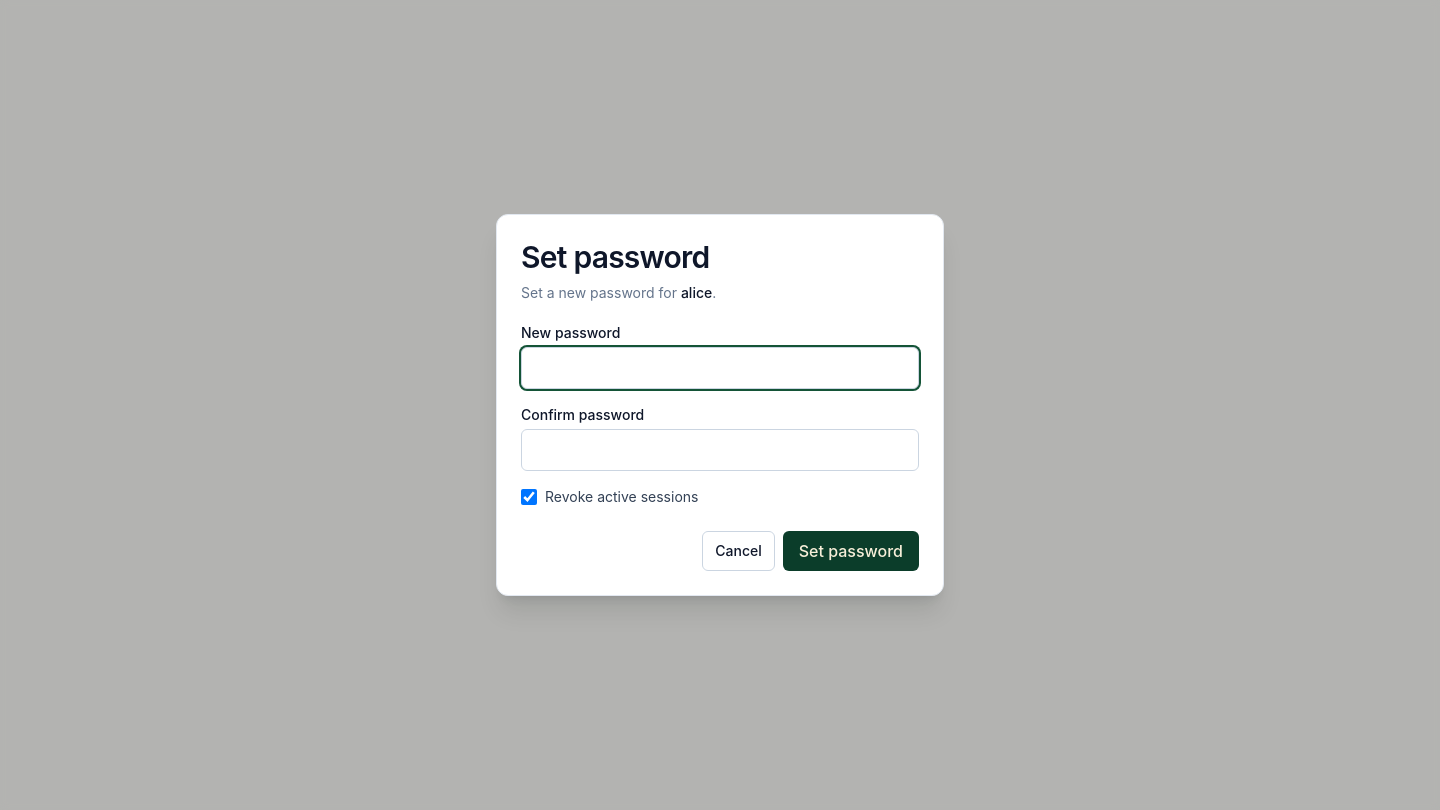
Test: validates confirmation matches
Type "secret" into the password field labelled "New password" at (720, 368), box [521, 347, 919, 389]
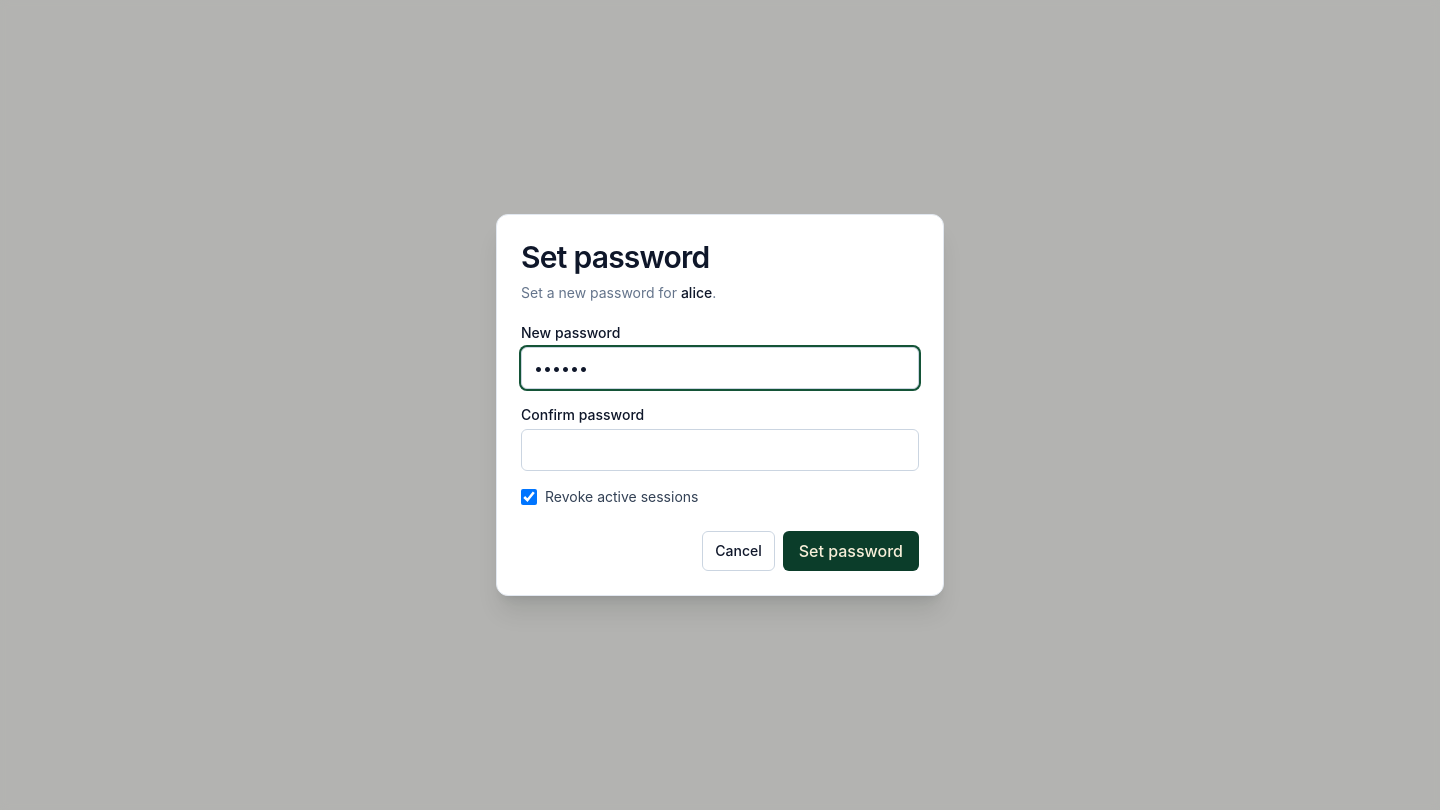
Type "different" into the password field labelled "Confirm password" at (720, 450), box [521, 429, 919, 471]
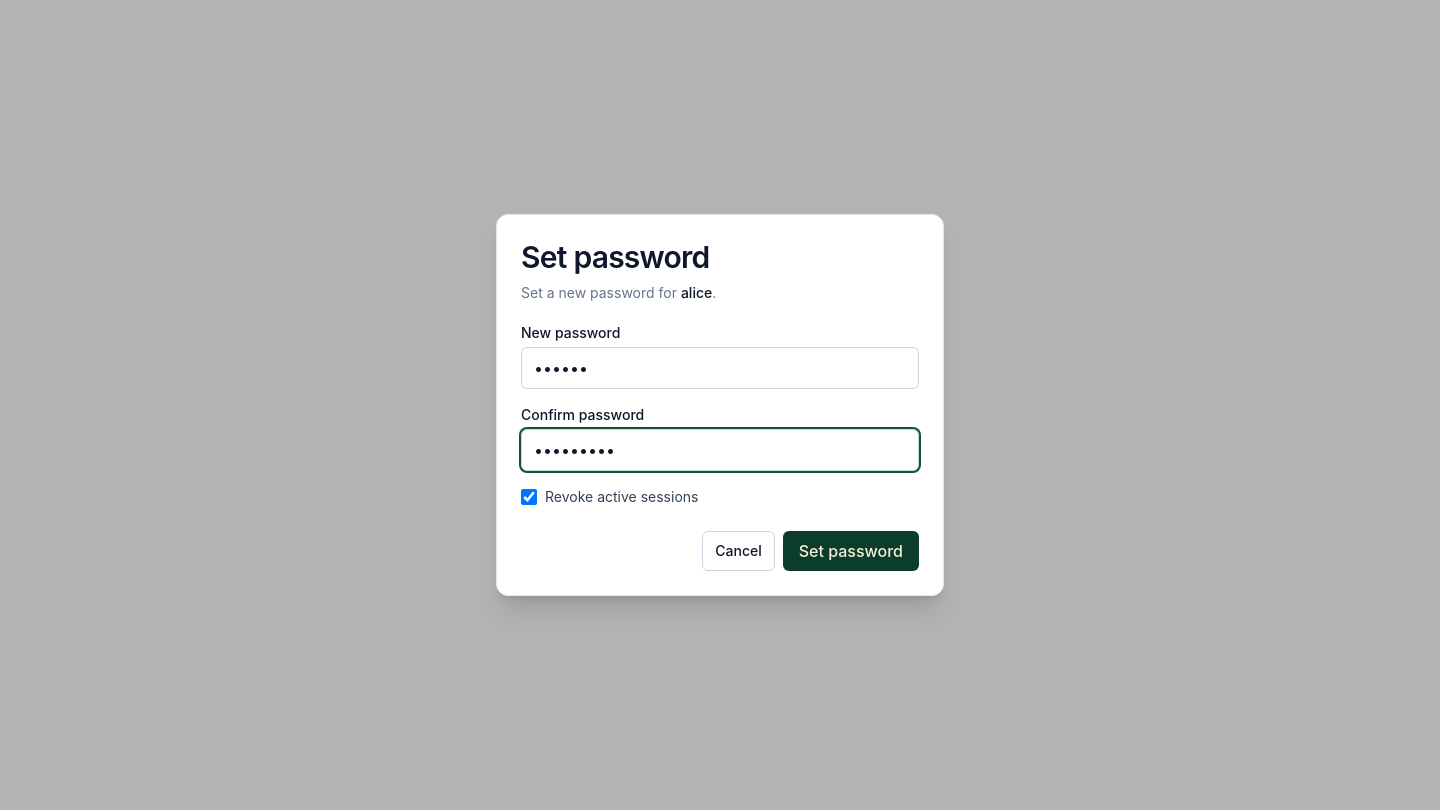
Click the button "Set password" at (851, 551), box [783, 531, 919, 571]
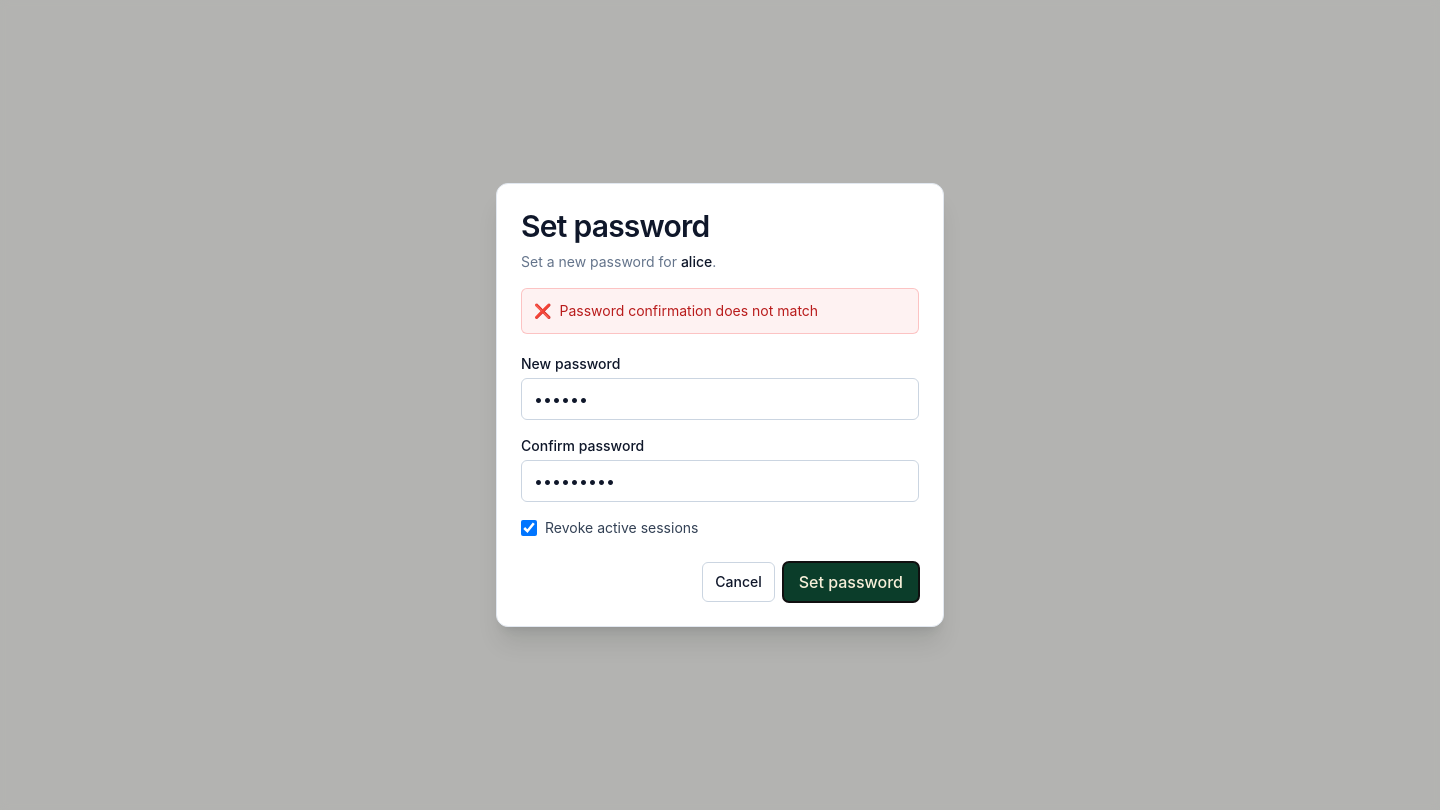
Now the message shows "Password confirmation does not match", box [560, 302, 818, 319]
